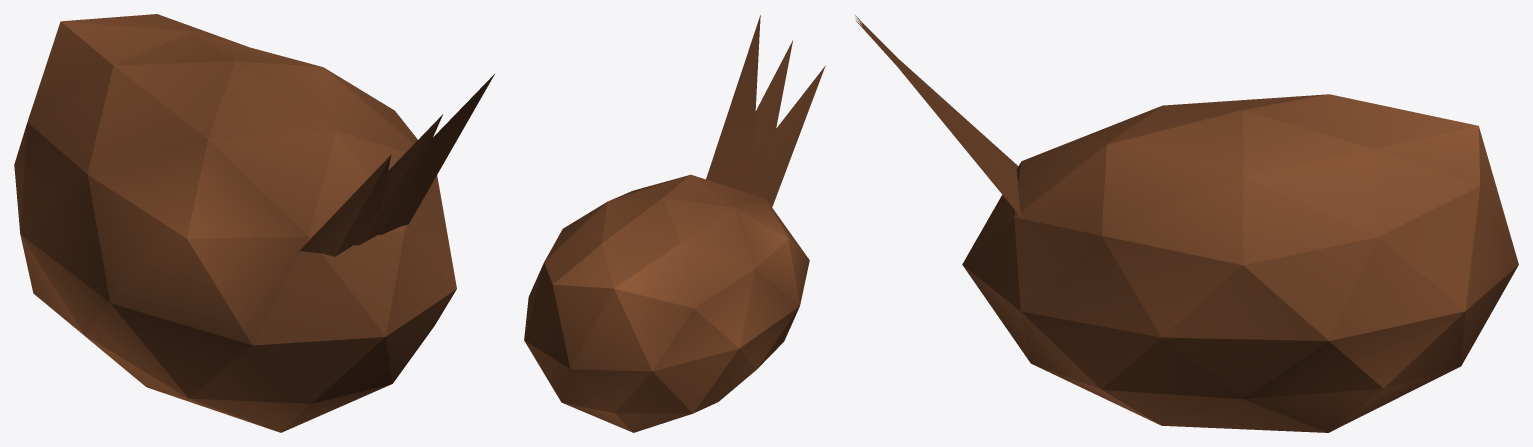
Rendered from chicken_body_1.glb.
The picture shows the model from 3 angles, left to right: view 1: azimuth 30°, elevation 25°; view 2: azimuth 150°, elevation 25°; view 3: azimuth 270°, elevation 25°; orthographic projection. The views are drawn at different scales.
Visible parts, largest first — view 1: chicken_body_1; view 2: chicken_body_1; view 3: chicken_body_1.
Part boxes in pixels (x1,y1,x2,y2): chicken_body_1: (14, 14, 494, 432); chicken_body_1: (524, 15, 825, 432); chicken_body_1: (854, 14, 1518, 432).
Size of the model in its own units: 0.2544 by 0.3306 by 0.4613.
